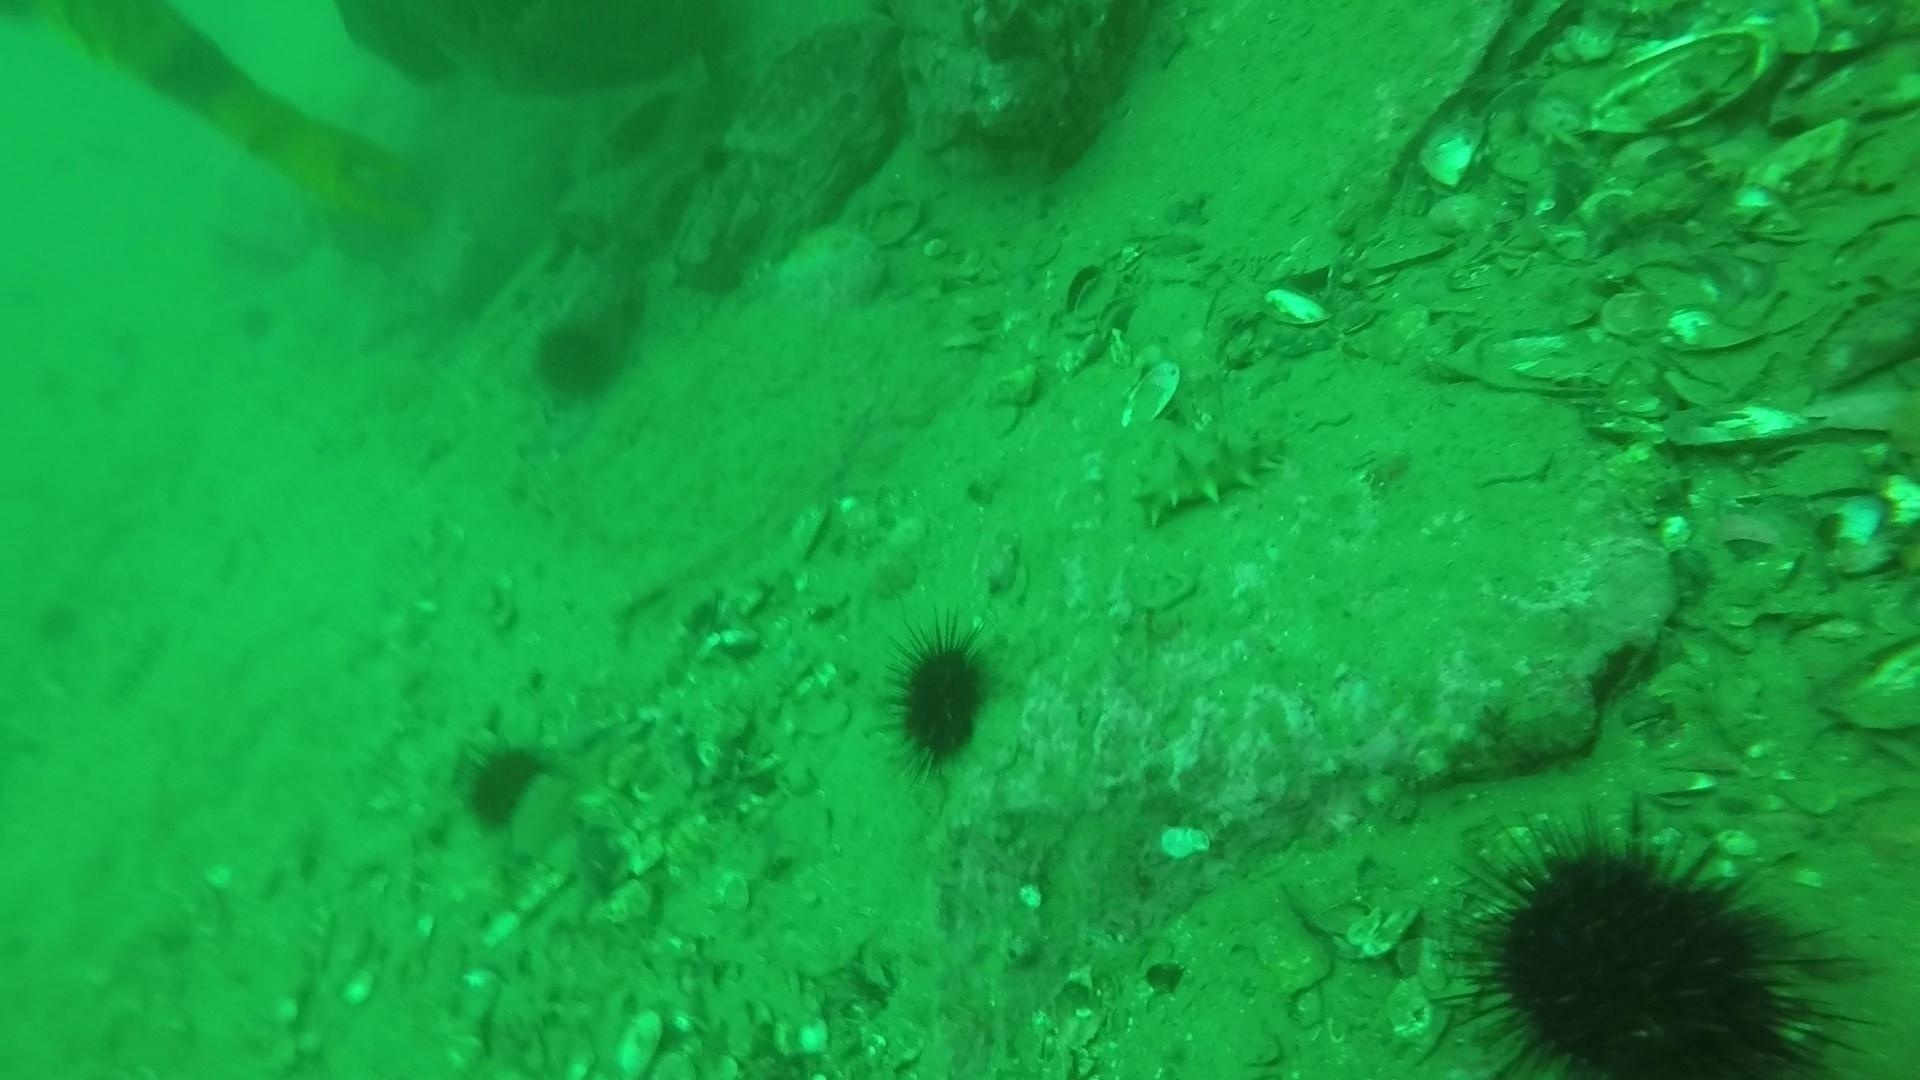echinus: (1437, 802, 1863, 1076), (880, 620, 1000, 773), (526, 309, 632, 407), (454, 733, 554, 836)
holothurian: (1125, 413, 1291, 527)
